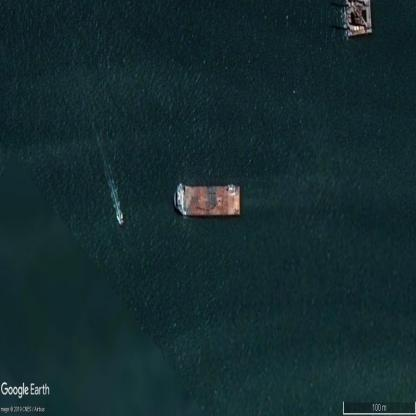ship: (174, 185, 240, 216), (117, 210, 123, 224)
